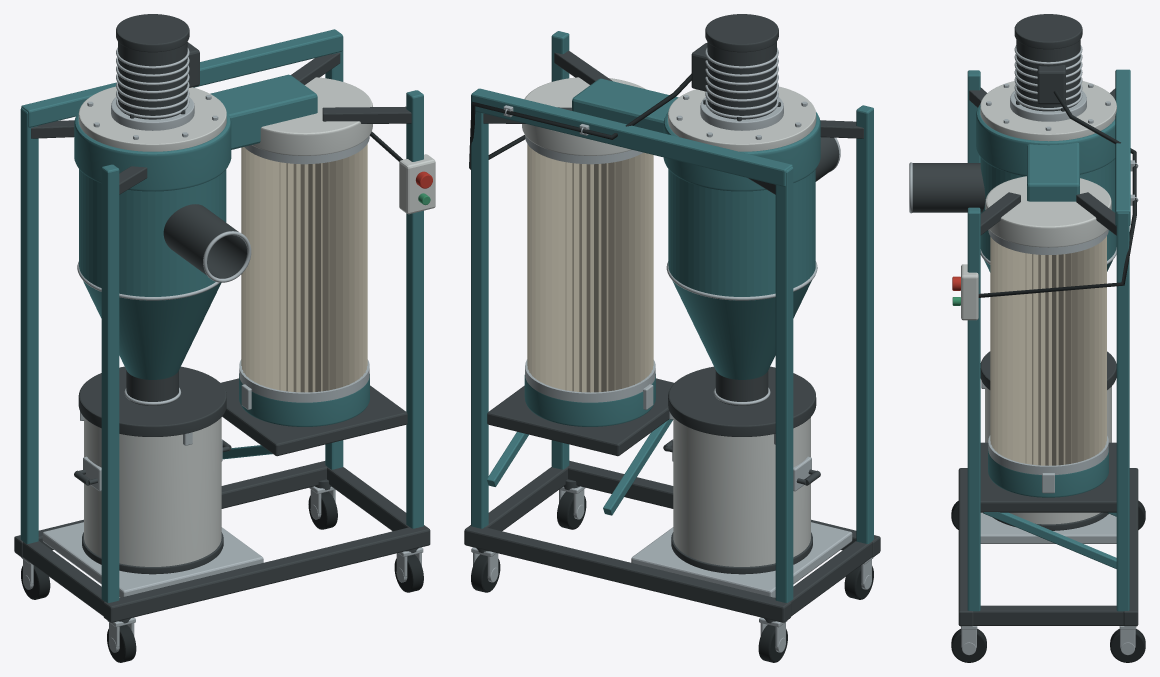
Rendered from city-cyclone-dust-extractor.glb.
The picture shows the model from 3 angles, left to right: view 1: azimuth 30°, elevation 25°; view 2: azimuth 150°, elevation 25°; view 3: azimuth 270°, elevation 25°; orthographic projection. The views are drawn at different scales.
Visible parts, largest first — view 1: Assembly | Deep petrol workshop enamel, Assembly | Charcoal cast machine metal, Assembly | Warm pale pleated filter, Assembly | Pale gray machine enamel, Assembly | Satin machined steel, Assembly | Black rubber grips and tires; view 2: Assembly | Deep petrol workshop enamel, Assembly | Charcoal cast machine metal, Assembly | Warm pale pleated filter, Assembly | Pale gray machine enamel, Assembly | Satin machined steel, Assembly | Black rubber grips and tires; view 3: Assembly | Deep petrol workshop enamel, Assembly | Warm pale pleated filter, Assembly | Charcoal cast machine metal, Assembly | Pale gray machine enamel, Assembly | Satin machined steel, Assembly | Black rubber grips and tires.
Boxes of the visible parts, x1,y1,x2,y2 form: Assembly | Deep petrol workshop enamel: [20, 29, 423, 602]; Assembly | Charcoal cast machine metal: [14, 14, 430, 623]; Assembly | Warm pale pleated filter: [241, 144, 367, 392]; Assembly | Pale gray machine enamel: [78, 77, 435, 566]; Assembly | Satin machined steel: [21, 47, 423, 652]; Assembly | Black rubber grips and tires: [21, 131, 423, 662]; Assembly | Deep petrol workshop enamel: [471, 31, 873, 602]; Assembly | Charcoal cast machine metal: [464, 14, 880, 623]; Assembly | Warm pale pleated filter: [527, 144, 653, 392]; Assembly | Pale gray machine enamel: [522, 77, 816, 566]; Assembly | Satin machined steel: [471, 47, 873, 652]; Assembly | Black rubber grips and tires: [469, 73, 873, 662]; Assembly | Deep petrol workshop enamel: [967, 69, 1130, 611]; Assembly | Warm pale pleated filter: [990, 236, 1106, 465]; Assembly | Charcoal cast machine metal: [912, 14, 1138, 626]; Assembly | Pale gray machine enamel: [961, 81, 1116, 524]; Assembly | Satin machined steel: [909, 45, 1138, 655]; Assembly | Black rubber grips and tires: [951, 90, 1145, 662].
Size of the model in its own units: 1.08 by 1.83 by 0.73.
